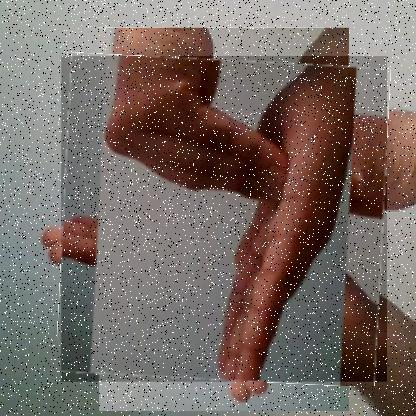Z: (60, 56, 387, 383)
